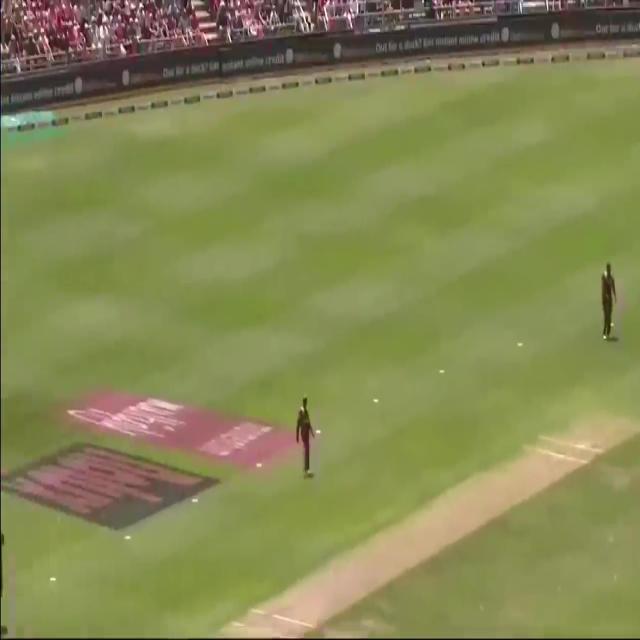Fielder: (287, 390, 325, 478), (590, 262, 623, 342)
